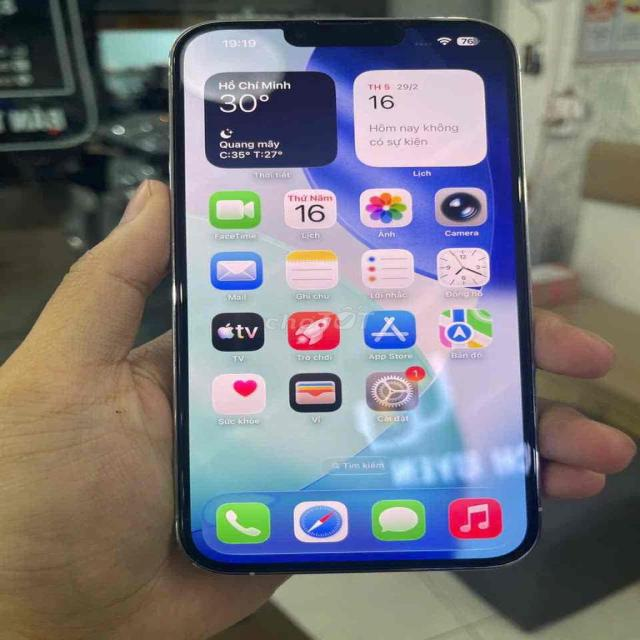gen_12_13: (173, 16, 555, 588)
